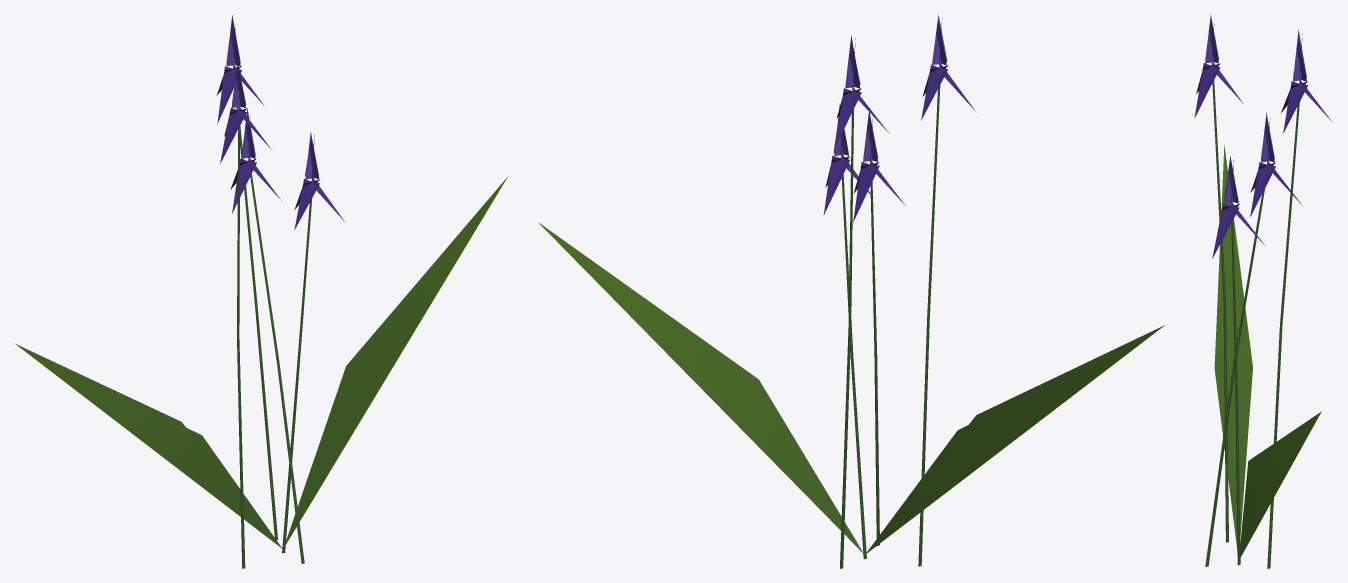
File: flower-iris-b.lod2.glb
3 renders of one model, left to right at view 1: azimuth 30°, elevation 25°; view 2: azimuth 150°, elevation 25°; view 3: azimuth 270°, elevation 25°, orthographic. The views are drawn at different scales.
Parts seen in each view (by area): view 1: flower-iris-b.lod2; view 2: flower-iris-b.lod2; view 3: flower-iris-b.lod2.
Boxes of the visible parts, box(x1,y1,x2,y2) form: flower-iris-b.lod2: box(15, 15, 507, 568); flower-iris-b.lod2: box(538, 14, 1164, 568); flower-iris-b.lod2: box(1194, 14, 1331, 568).
Bounding box in the file's own units: 0.853 × 0.7815 × 0.1876.
